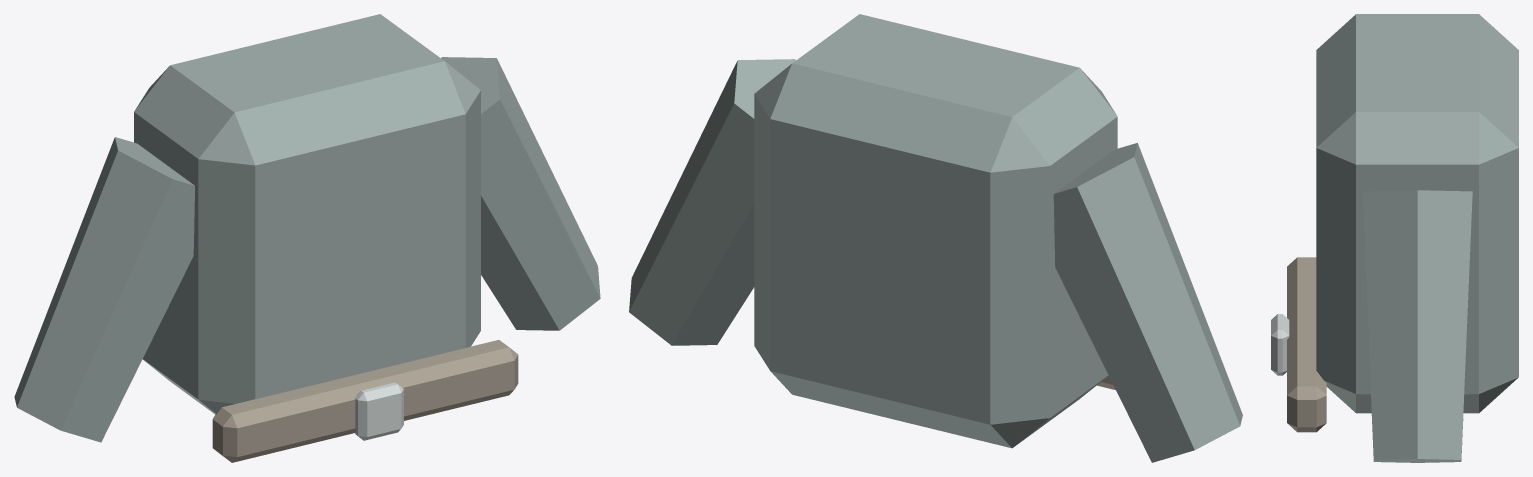
File: SM_NPC_Top_00_Citizen.glb
The picture shows the model from 3 angles, left to right: view 1: azimuth 30°, elevation 25°; view 2: azimuth 150°, elevation 25°; view 3: azimuth 270°, elevation 25°; orthographic projection. The views are drawn at different scales.
Visible parts, largest first — view 1: SM_NPC_Top_00_Citizen; view 2: SM_NPC_Top_00_Citizen; view 3: SM_NPC_Top_00_Citizen.
Part boxes in pixels (box(x1,y1,x2,y2)): SM_NPC_Top_00_Citizen: box(14, 14, 600, 462); SM_NPC_Top_00_Citizen: box(629, 14, 1242, 462); SM_NPC_Top_00_Citizen: box(1271, 14, 1518, 462).
Bounding box in the file's own units: 0.8845 × 0.465 × 0.3425.
